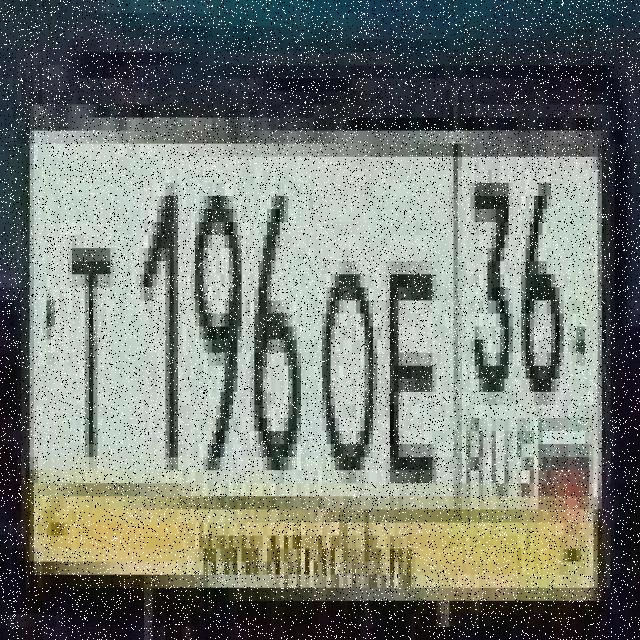licenseplate: (17, 66, 620, 610)
